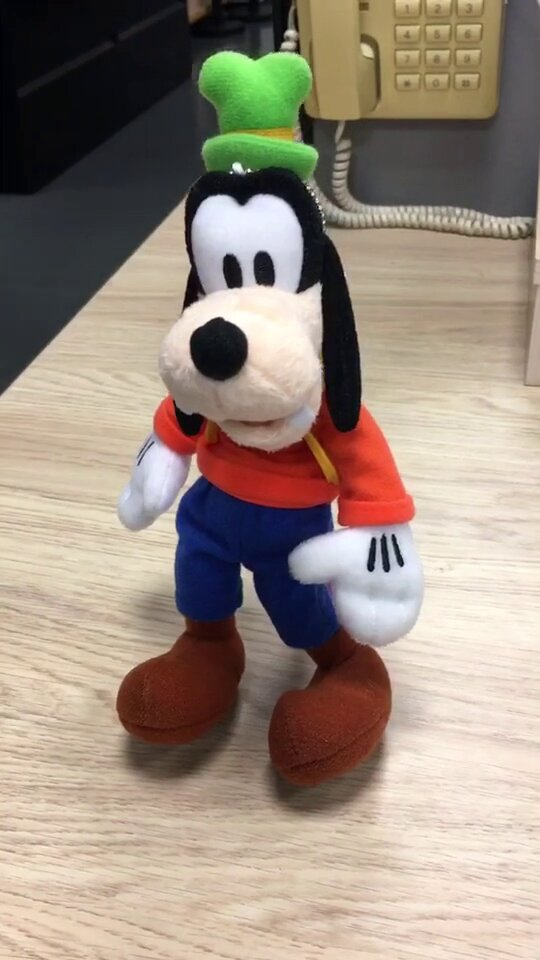goofy: (110, 46, 426, 792)
